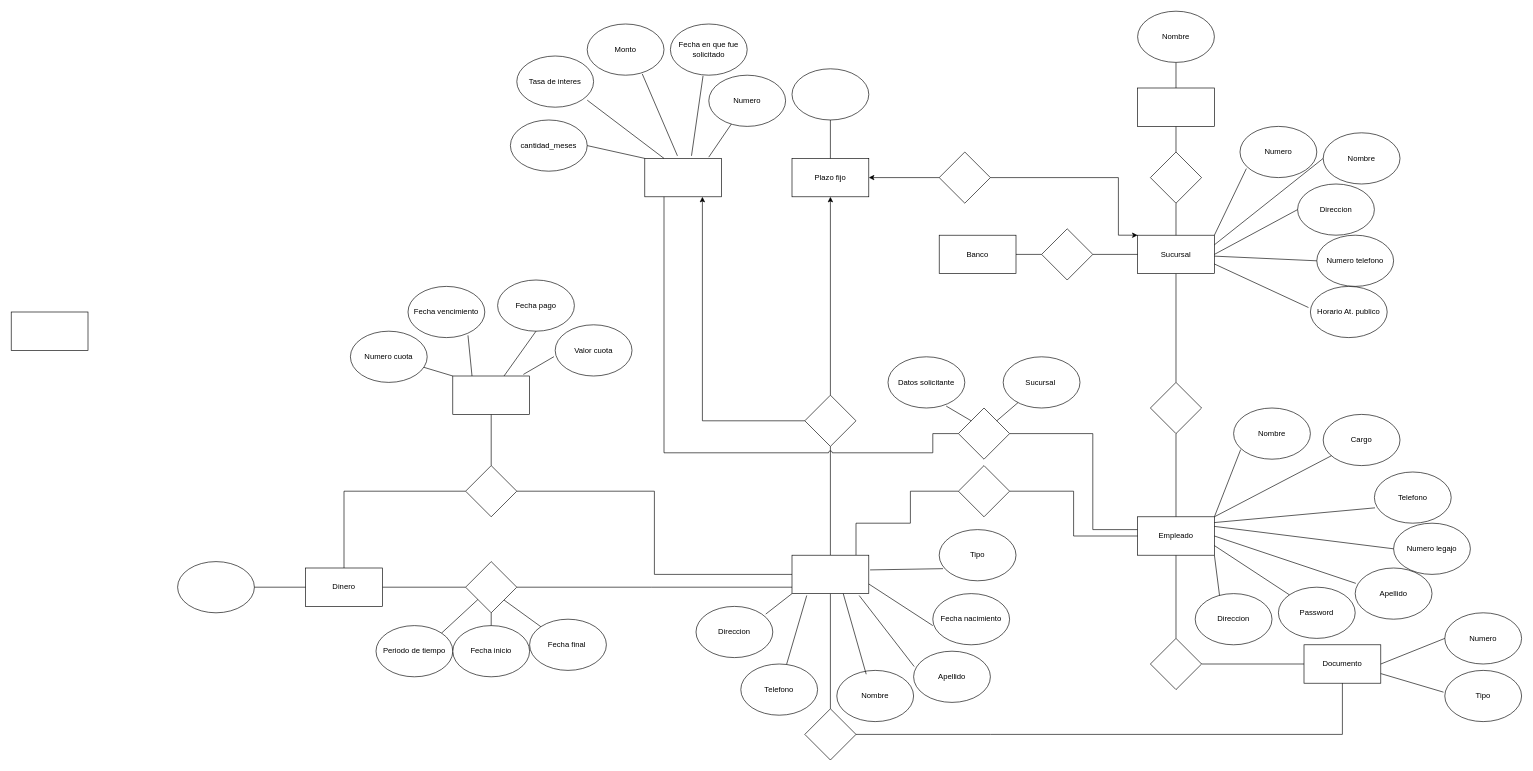
Some shapes in this 1533 by 771 pixel diagram are drawn without their labels. Each missing label, with the centre of its shape:
Asociado: (x=964, y=177)
Atiende: (x=984, y=491)
Caja de ahorro: (x=49, y=330)
Cantidad: (x=215, y=587)
Ciudad: (x=1175, y=106)
Cliente: (x=830, y=574)
Cuota: (x=491, y=394)
Devuelve: (x=491, y=491)
Entrega: (x=491, y=587)
Numero identificatorio: (x=830, y=94)
Posee: (x=1067, y=254)
Prestamo: (x=683, y=177)
Registra: (x=984, y=433)
Se identifica: (x=830, y=734)
Solicita: (x=830, y=420)
Tiene: (x=1176, y=664)
Trabaja: (x=1176, y=408)
Ubica: (x=1176, y=177)
